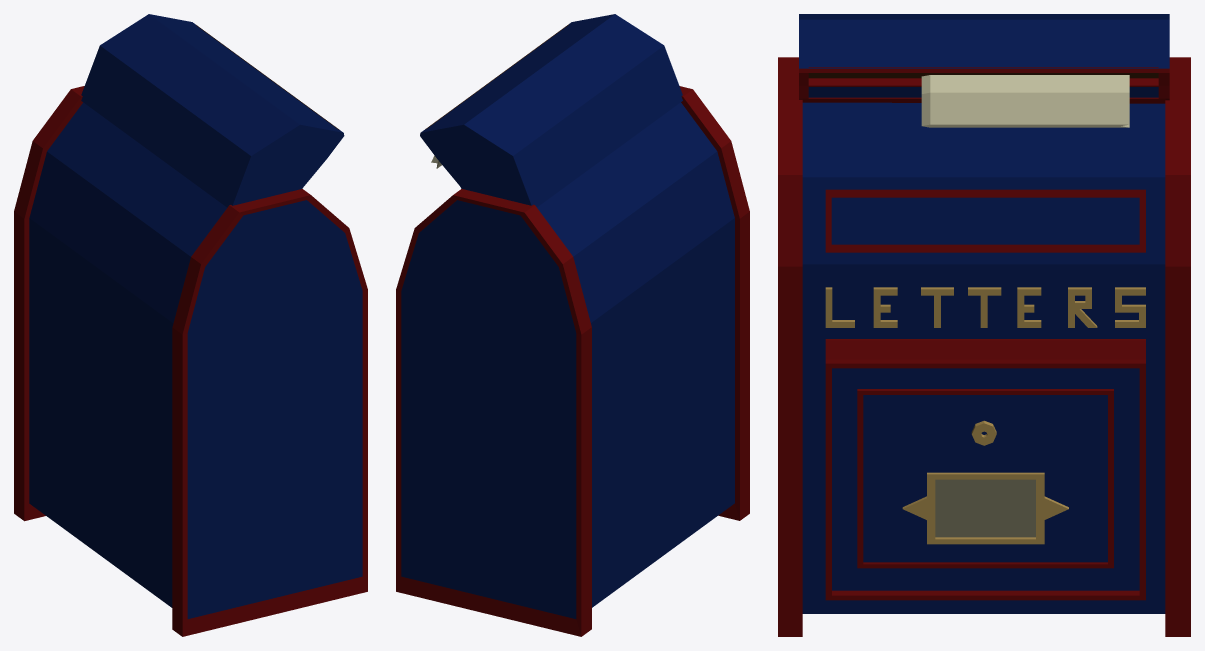
The model's file is uploads_files_3729088_mailbox.fbx.
The picture shows the model from 3 angles, left to right: view 1: azimuth 30°, elevation 25°; view 2: azimuth 150°, elevation 25°; view 3: azimuth 270°, elevation 25°; orthographic projection. The views are drawn at different scales.
Parts seen in each view (by area): view 1: mailbox; view 2: mailbox; view 3: mailbox, newspaper.
Boxes of the visible parts, bbox=[...] form: mailbox: bbox=[14, 14, 367, 636]; mailbox: bbox=[396, 14, 749, 636]; mailbox: bbox=[778, 14, 1190, 636]; newspaper: bbox=[921, 75, 1129, 127].
Size of the model in its own units: 267 by 644 by 414.
